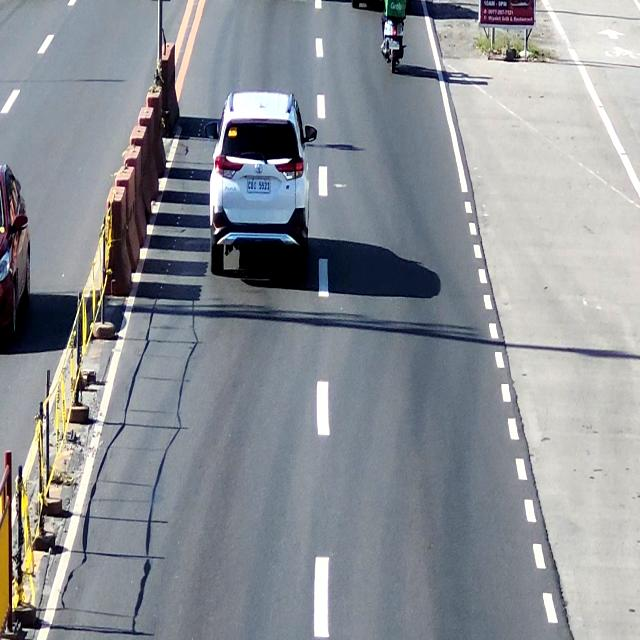Car: (207, 88, 318, 283)
License-Plate: (245, 172, 275, 200)
Motorcycle: (380, 0, 410, 77)
